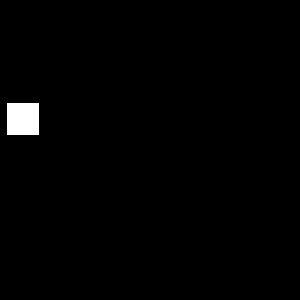circle: (7, 103, 39, 135)
